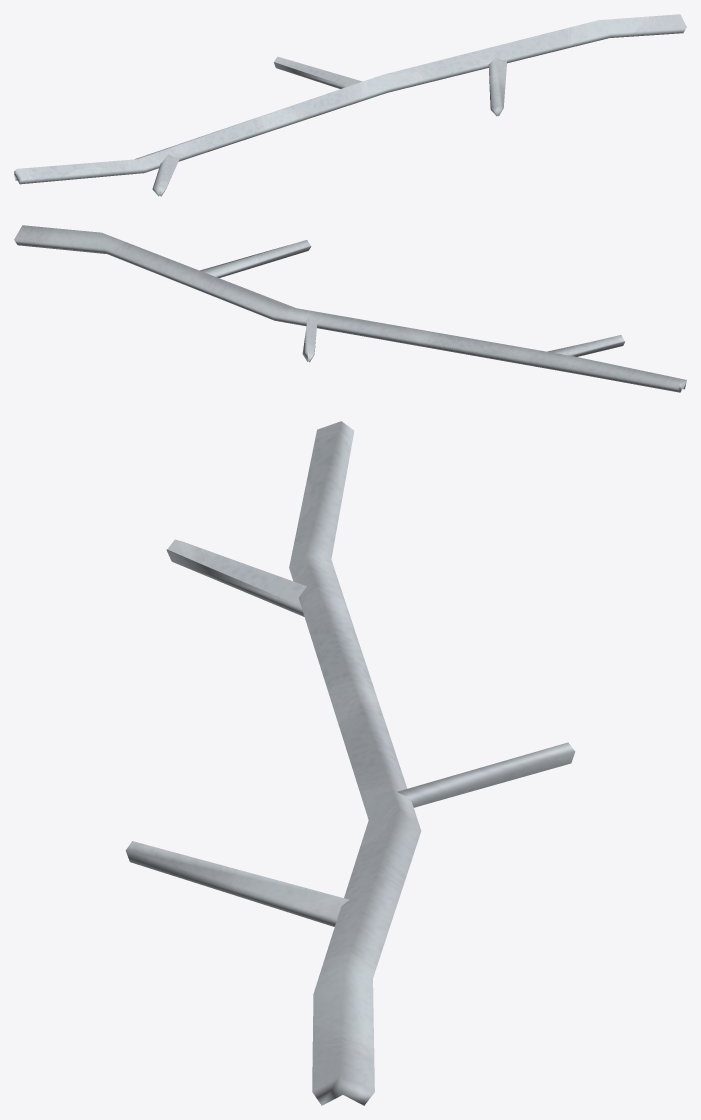
File: TreeStub_1_Snow.fbx
The picture shows the model from 3 angles, top to bottom: view 1: azimuth 30°, elevation 25°; view 2: azimuth 150°, elevation 25°; view 3: azimuth 270°, elevation 25°; orthographic projection. The views are drawn at different scales.
Visible parts, largest first — view 1: TreeStub_1_Snow; view 2: TreeStub_1_Snow; view 3: TreeStub_1_Snow.
Boxes of the visible parts, box(x1,y1,x2,y2) form: TreeStub_1_Snow: box(14, 14, 686, 196); TreeStub_1_Snow: box(14, 225, 686, 392); TreeStub_1_Snow: box(125, 421, 575, 1105).
Bounding box in the file's own units: 1086 × 51.35 × 321.
